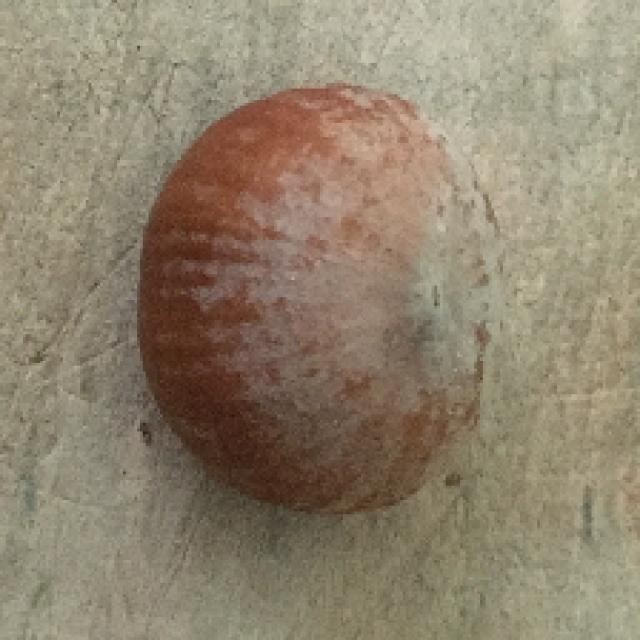qualityHazelnut: (133, 80, 504, 510)
